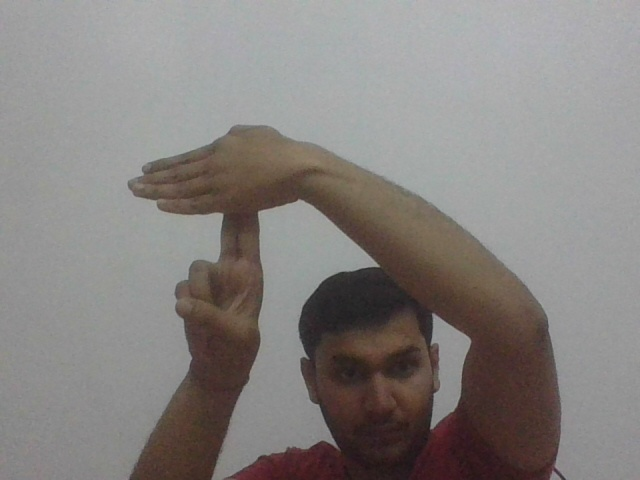N: (126, 123, 288, 263)
